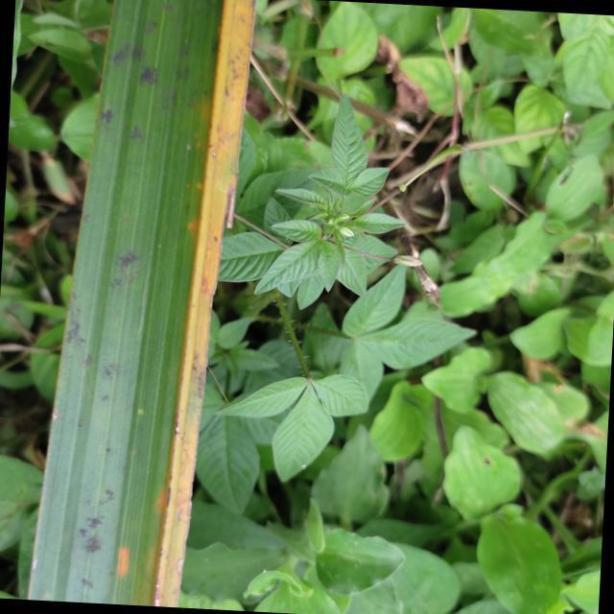Megnesium: (27, 3, 257, 614)
